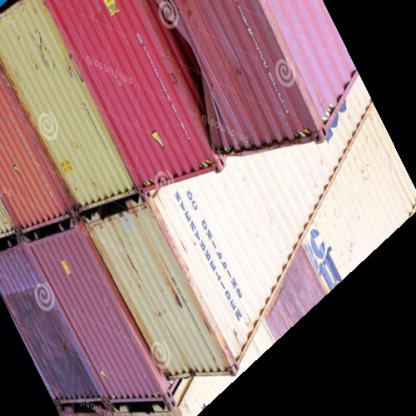Damage: (154, 16, 226, 121)
